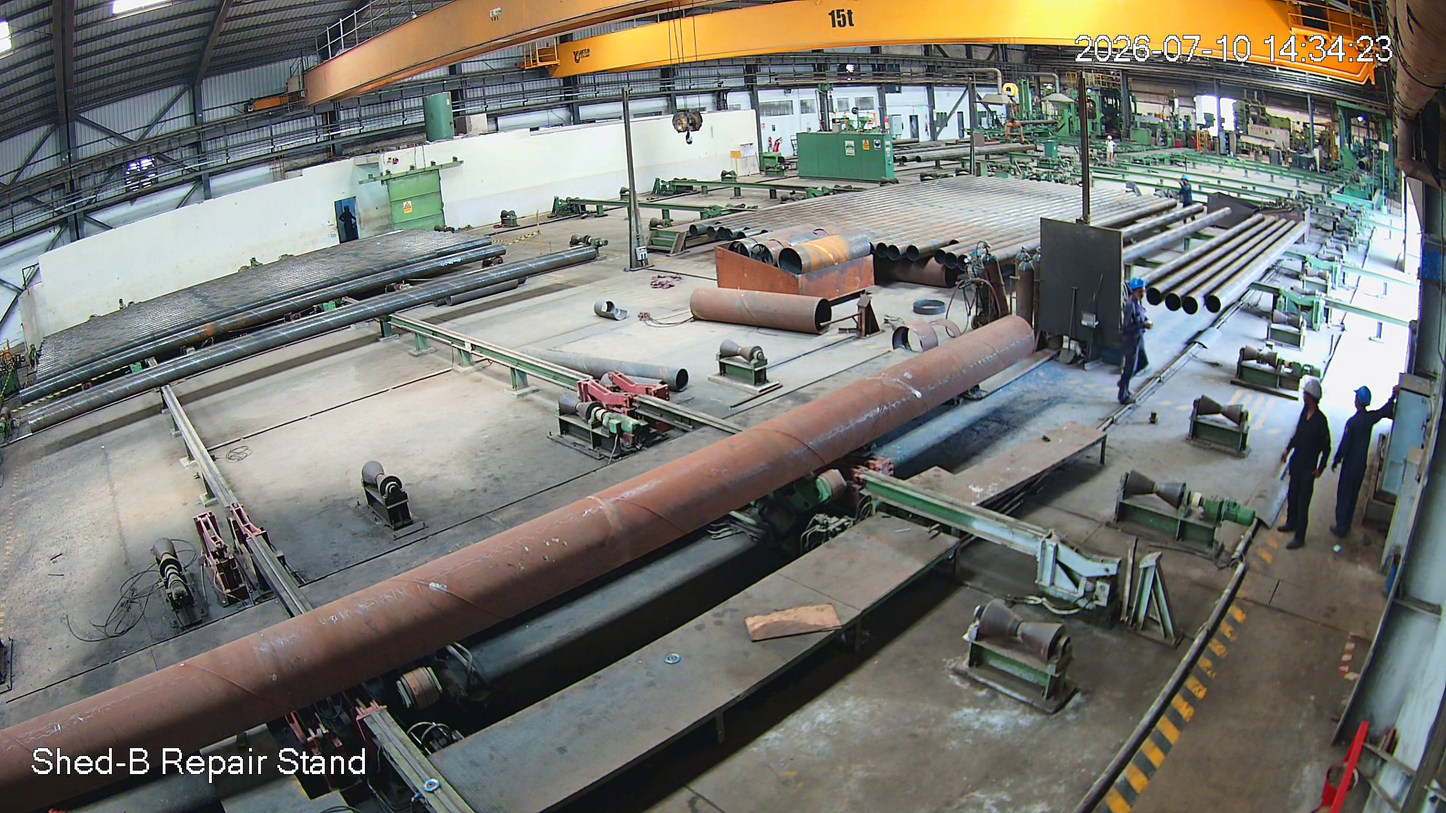Helmet: (1294, 374, 1330, 424), (1349, 382, 1380, 422), (1120, 271, 1147, 305)
Person: (1282, 377, 1334, 537), (1111, 276, 1156, 404), (1346, 385, 1388, 519)
